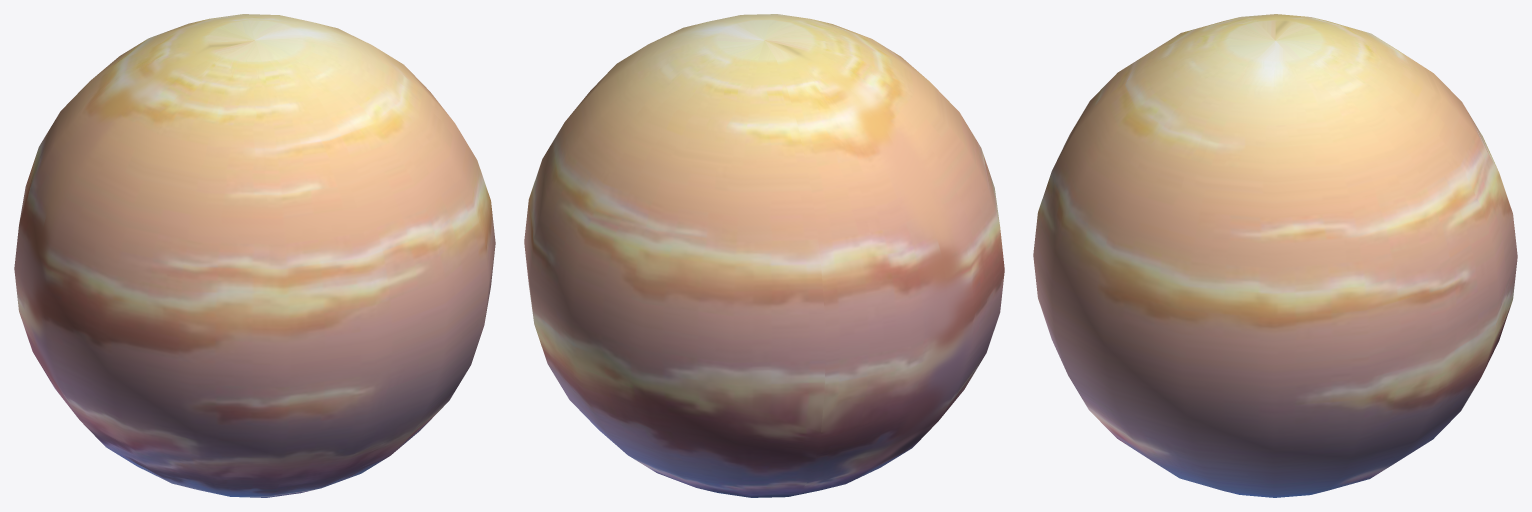
The model's file is  Mahjong 3D_Background skybox.fbx.
3 views of the same model, side by side, from view 1: azimuth 30°, elevation 25°; view 2: azimuth 150°, elevation 25°; view 3: azimuth 270°, elevation 25° (orthographic).
Visible parts, largest first — view 1: Sphere; view 2: Sphere; view 3: Sphere.
Boxes of the visible parts, box(x1,y1,x2,y2) form: Sphere: box(14, 14, 495, 497); Sphere: box(524, 14, 1004, 497); Sphere: box(1033, 14, 1517, 497).
Bounding box in the file's own units: 69.66 × 69.66 × 68.32.
Materials: 1 (1 with a texture image).
